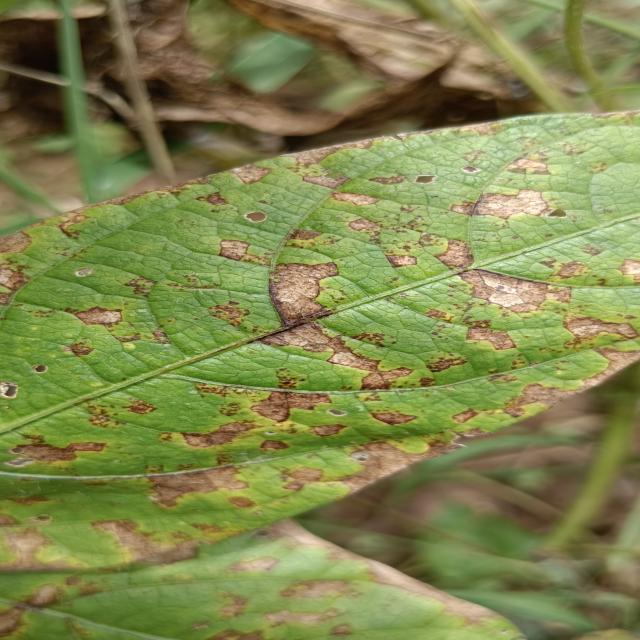Black gram_leaf spot: (0, 106, 640, 576), (0, 510, 540, 640)
